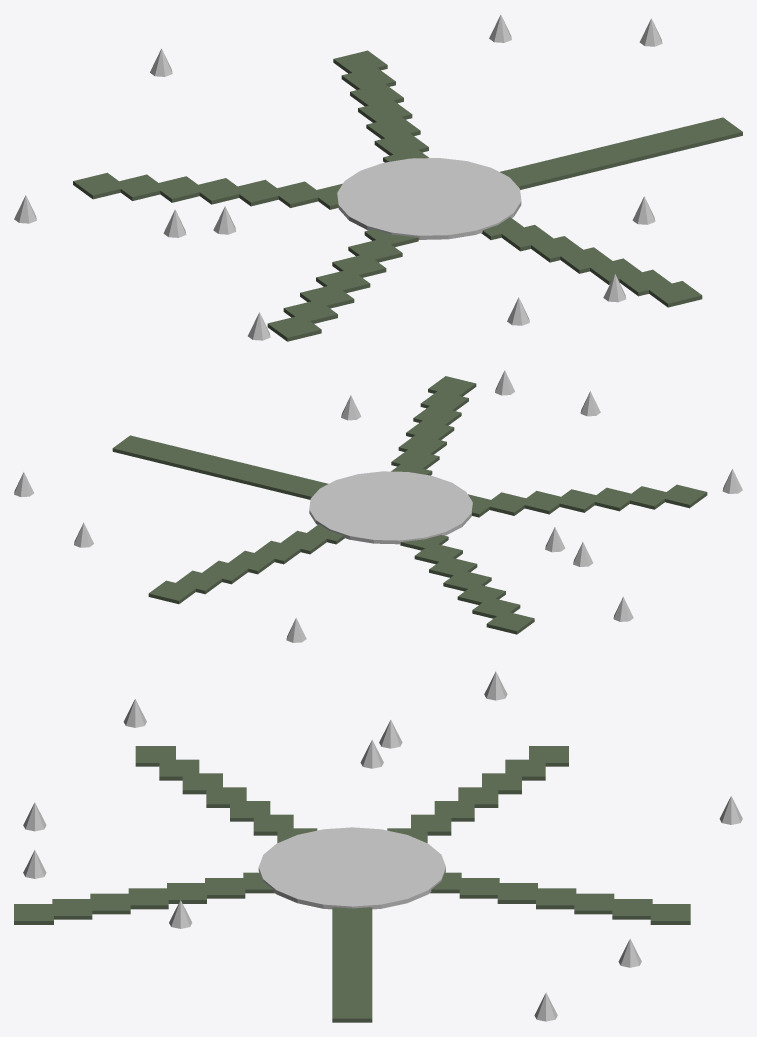
The model's file is layout_main.obj.
3 views of the same model, one above another, from view 1: azimuth 30°, elevation 25°; view 2: azimuth 150°, elevation 25°; view 3: azimuth 270°, elevation 25° (orthographic). The views are drawn at different scales.
Parts seen in each view (by area): view 1: paths, plaza, scatter; view 2: paths, plaza, scatter; view 3: paths, plaza, scatter.
Part boxes in pixels (box(x1,y1,x2,y2)): paths: box(73, 50, 742, 341); plaza: box(337, 158, 521, 239); scatter: box(14, 14, 662, 340); paths: box(112, 376, 707, 634); plaza: box(309, 471, 472, 544); scatter: box(14, 370, 742, 642); paths: box(14, 746, 690, 1022); plaza: box(258, 827, 445, 909); scatter: box(23, 671, 742, 1021).
Size of the model in its own units: 58.45 by 3.08 by 54.46.
